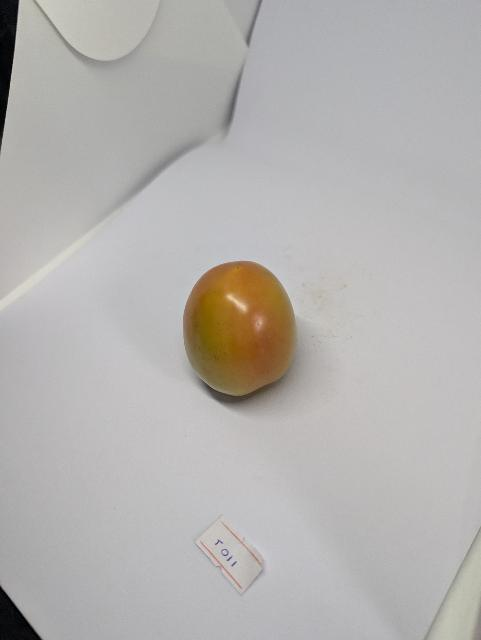turning: (178, 253, 304, 406)
